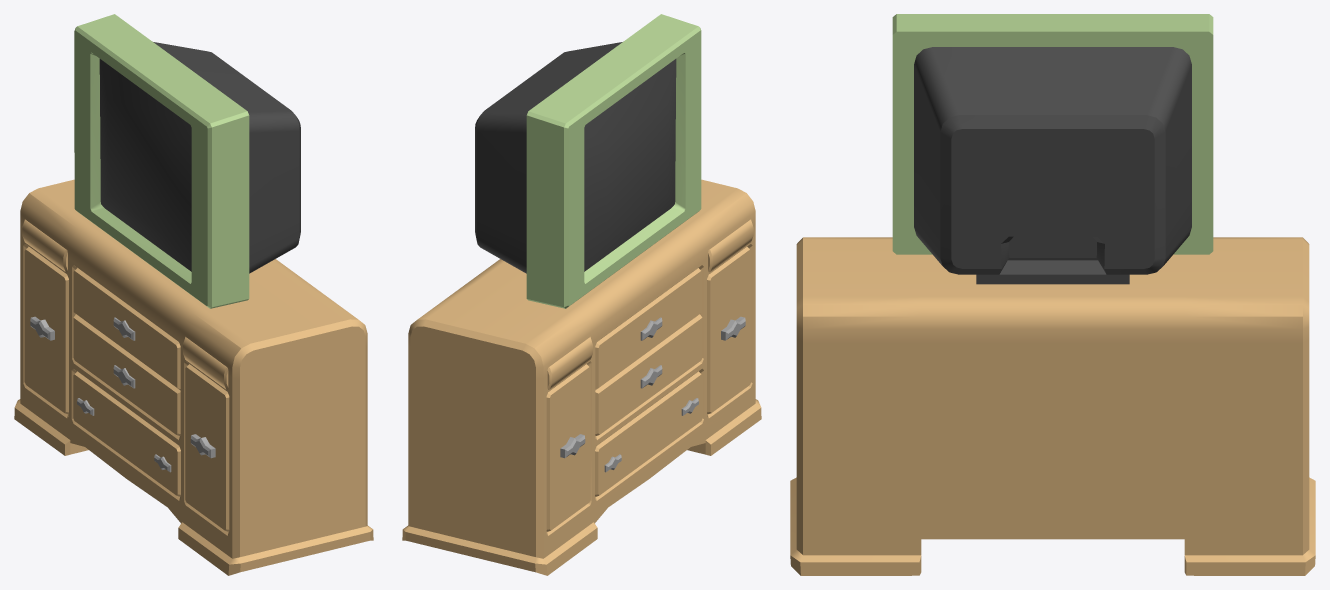
3 views of the same model, side by side, from view 1: azimuth 30°, elevation 25°; view 2: azimuth 150°, elevation 25°; view 3: azimuth 270°, elevation 25° (orthographic). The views are drawn at different scales.
Parts seen in each view (by area): view 1: pCube567, pCube563, pCube619, pCylinder142; view 2: pCube567, pCube563, pCube619, pCylinder142; view 3: pCube567, pCube619, pCube563, pCube565.
Boxes of the visible parts, x1=… form: pCube567: x1=14, y1=179, x2=373, y2=575; pCube563: x1=74, y1=14, x2=249, y2=308; pCube619: x1=99, y1=42, x2=300, y2=273; pCylinder142: x1=30, y1=316, x2=215, y2=472; pCube567: x1=402, y1=179, x2=761, y2=575; pCube563: x1=526, y1=14, x2=701, y2=308; pCube619: x1=475, y1=42, x2=676, y2=273; pCylinder142: x1=560, y1=316, x2=745, y2=472; pCube567: x1=790, y1=237, x2=1315, y2=575; pCube619: x1=914, y1=47, x2=1191, y2=274; pCube563: x1=892, y1=14, x2=1213, y2=254; pCube565: x1=976, y1=274, x2=1129, y2=284.
Size of the model in its own units: 3.8 by 10.36 by 9.97.
